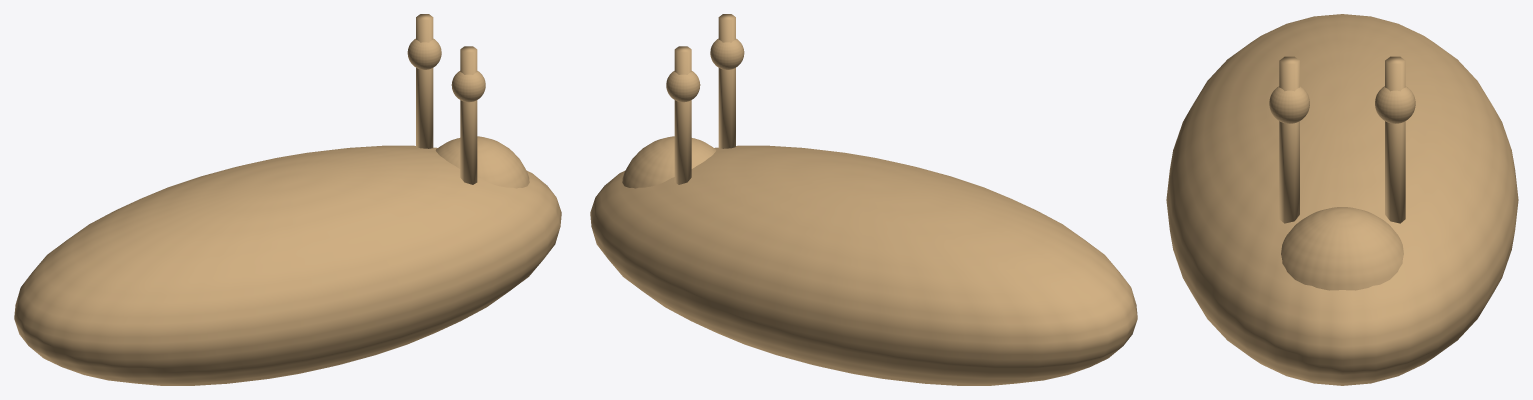
The model's file is tar_slug_02.glb.
3 renders of one model, left to right at view 1: azimuth 30°, elevation 25°; view 2: azimuth 150°, elevation 25°; view 3: azimuth 270°, elevation 25°, orthographic. The views are drawn at different scales.
Visible parts, largest first — view 1: tar_slug_02; view 2: tar_slug_02; view 3: tar_slug_02.
Boxes of the visible parts, x1,y1,x2,y2 form: tar_slug_02: [14, 14, 561, 385]; tar_slug_02: [590, 14, 1137, 385]; tar_slug_02: [1166, 14, 1518, 385].
Bounding box in the file's own units: 3.58 × 1.81 × 1.72.
